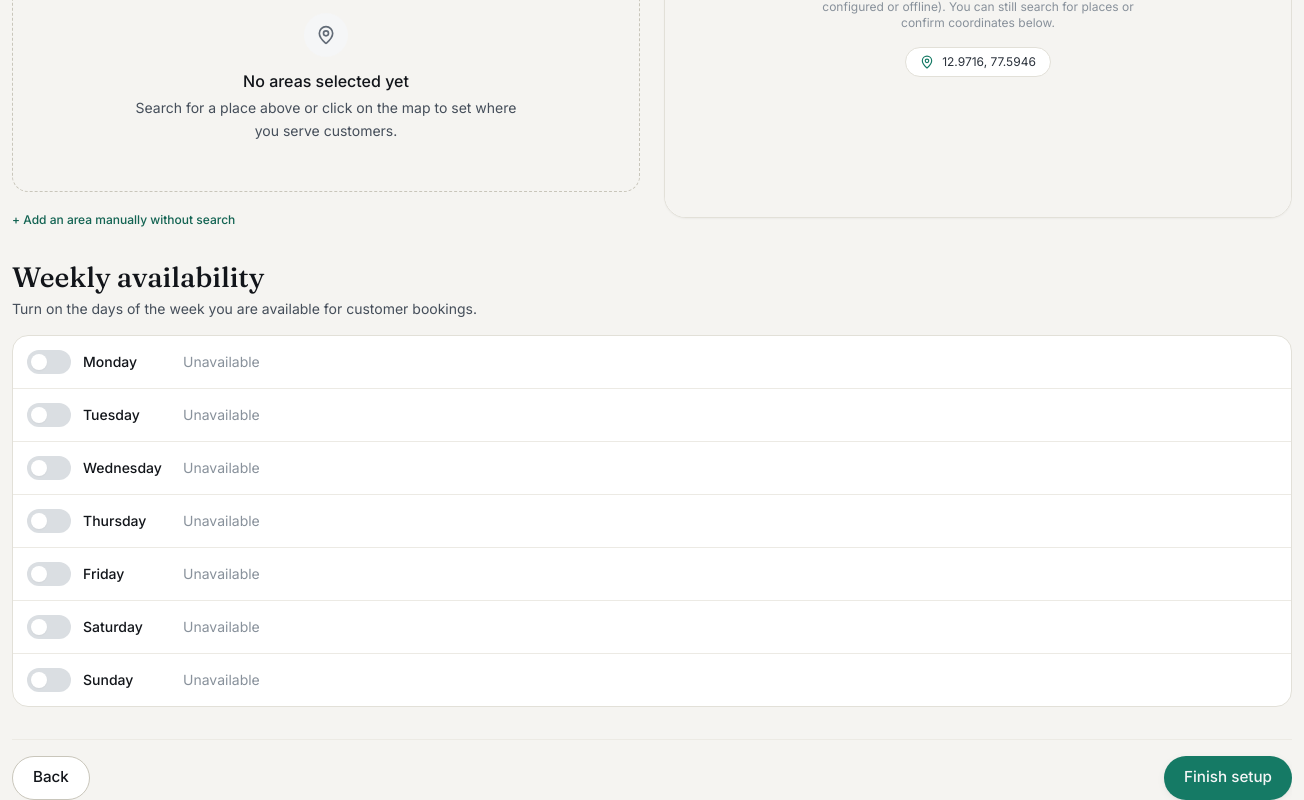
Test: StepServiceArea › blocks finishing without at least one area
(page scrolled)
Click the button "Finish setup" at (1228, 778), box [1164,756,1292,799]
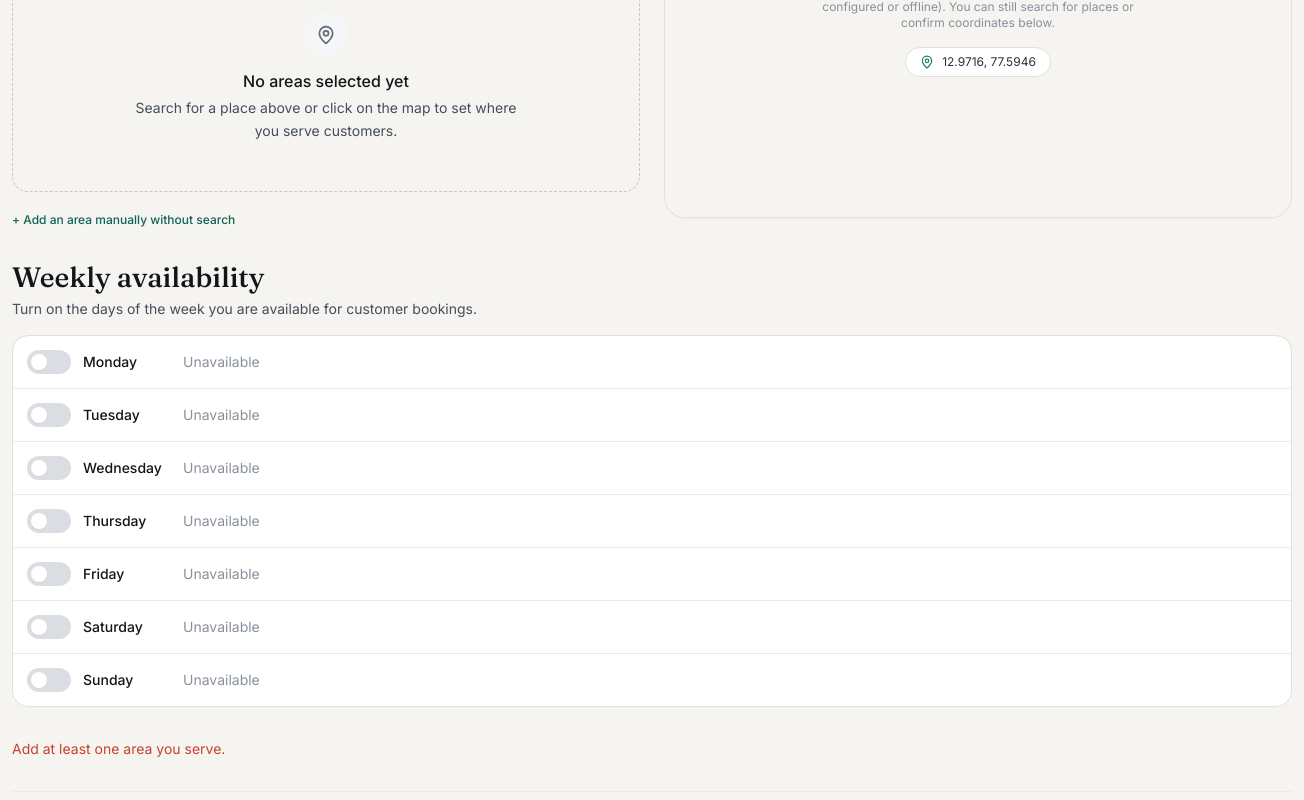
expect the text "Add at least one area you serve." is shown: met, box [12,740,225,757]
